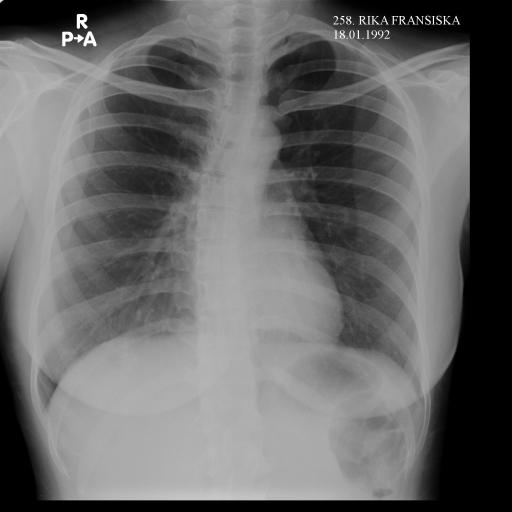normal: (22, 8, 436, 436)
